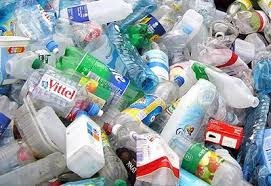plastic: (55, 46, 141, 101), (168, 132, 251, 186), (22, 66, 103, 116), (115, 76, 186, 129), (64, 110, 107, 179), (133, 134, 182, 184), (206, 73, 259, 108)
